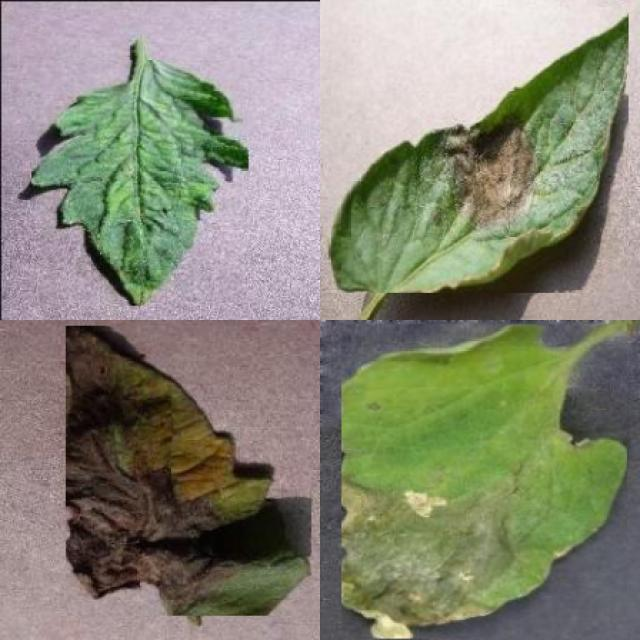Late Blight: (342, 324, 627, 639), (328, 7, 628, 293), (65, 326, 312, 616)
Mosaic Virus: (32, 61, 248, 306)
